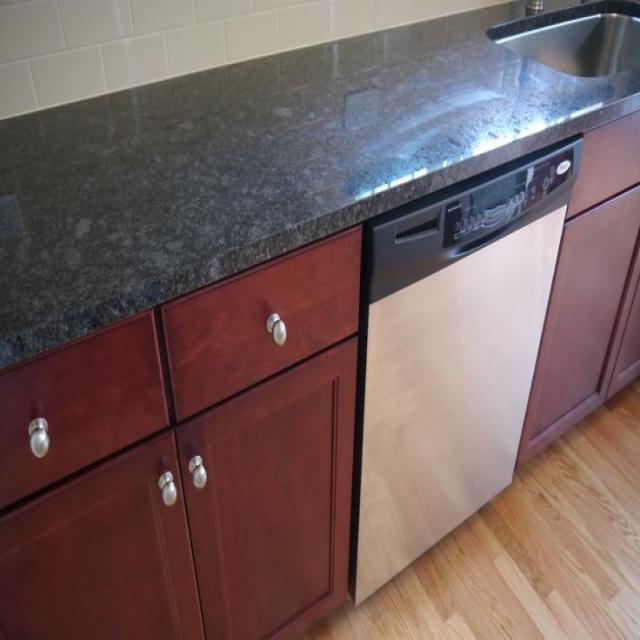dishwasher: (354, 132, 539, 591)
